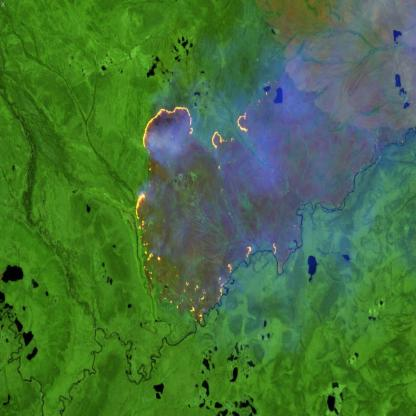fire: (133, 189, 277, 324), (140, 102, 249, 162)
